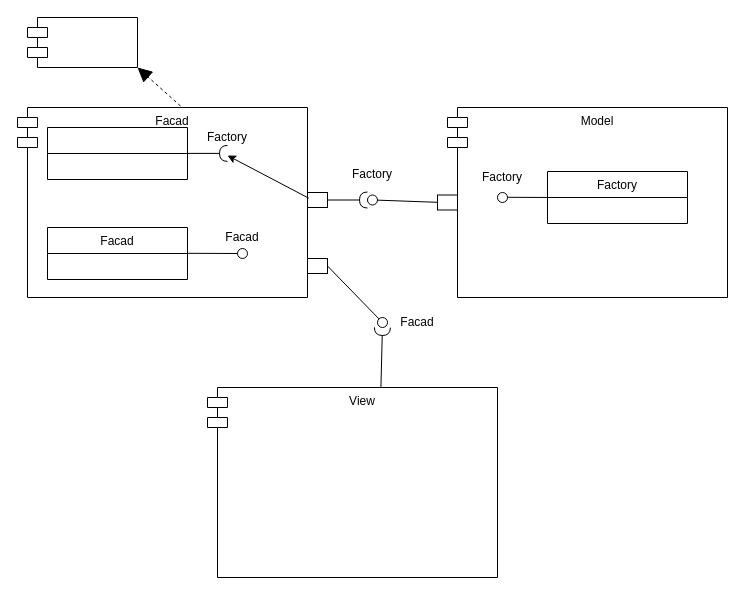
Some shapes in this 745 by 595 pixel diagram are drawn without their labels. The shapes that lost their labels are listed below. From the top down, each one's box as (x1, y1, x2, y2) in pixels, then its label:
(26, 16, 138, 68): Decorator
(46, 126, 188, 180): Controllers
